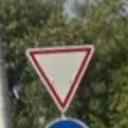preferencia: (22, 42, 100, 113)
